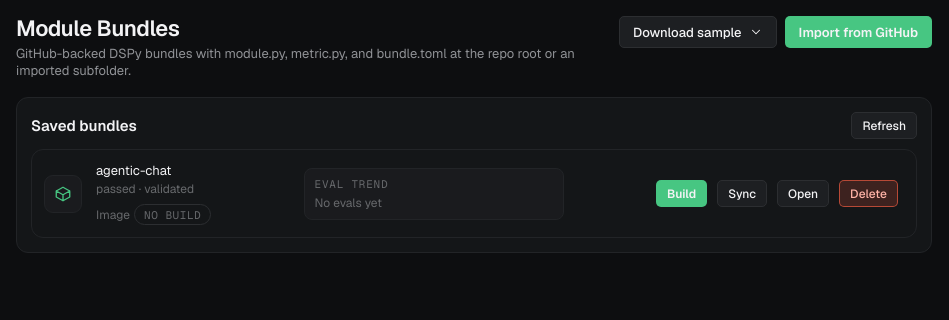
Test case: BundlesPage › syncs a bundle from the list and shows a success notice
The width and height of the screenshot is (949, 320).
Step 1. Click the button "Sync" → click(742, 194), box x1=717 y1=180 x2=767 y2=207
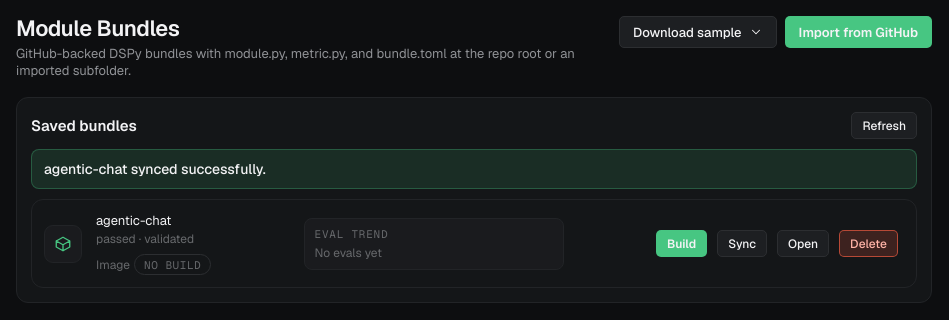
Check: the text "agentic-chat synced successfully." is shown, box x1=31 y1=149 x2=917 y2=189
